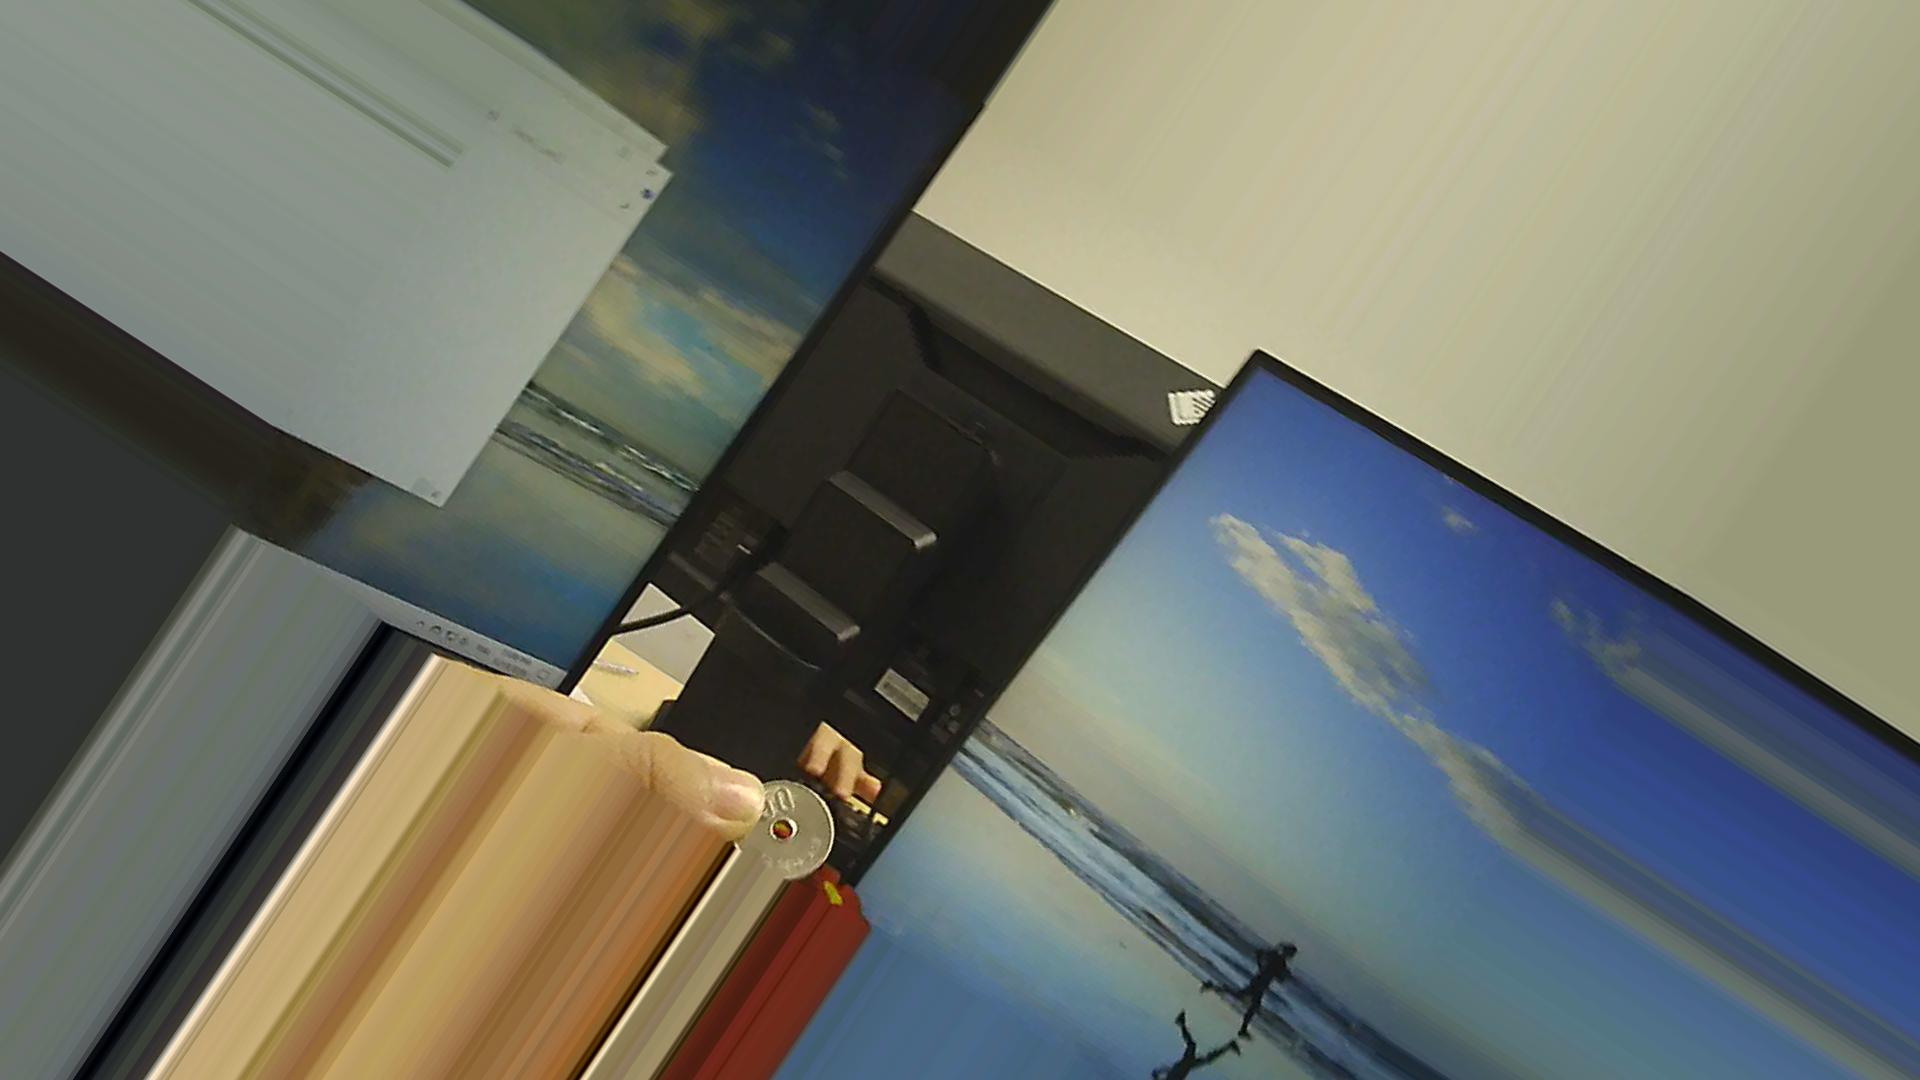50 Yen: (724, 773, 840, 891)
